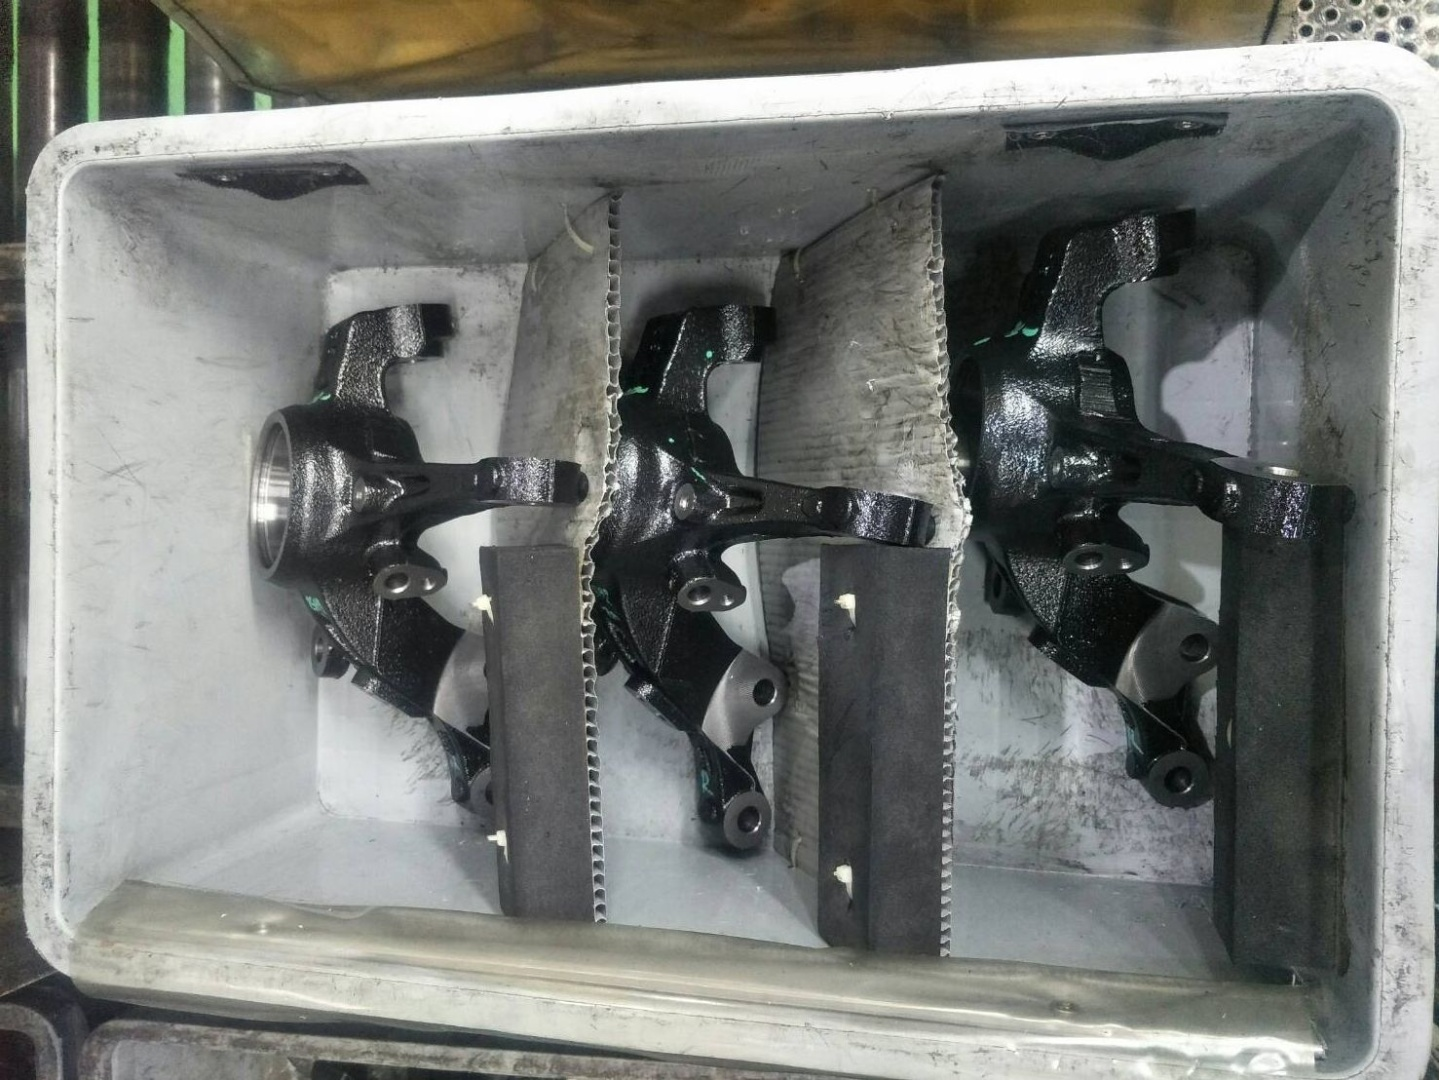abs-rh: (943, 199, 1364, 817), (240, 292, 594, 845), (600, 296, 942, 868)
